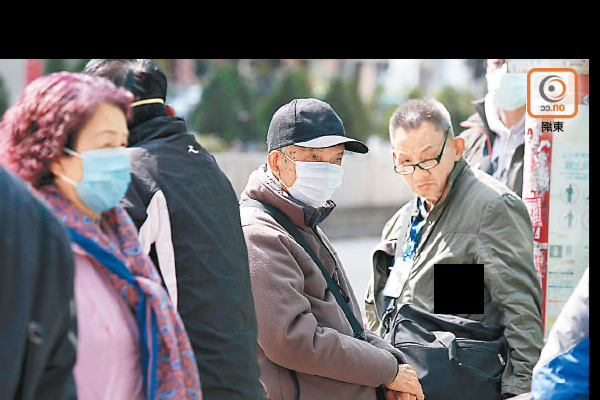with_mask: (62, 126, 131, 215), (281, 143, 346, 205), (484, 59, 530, 113)
without_mask: (394, 141, 456, 198)
